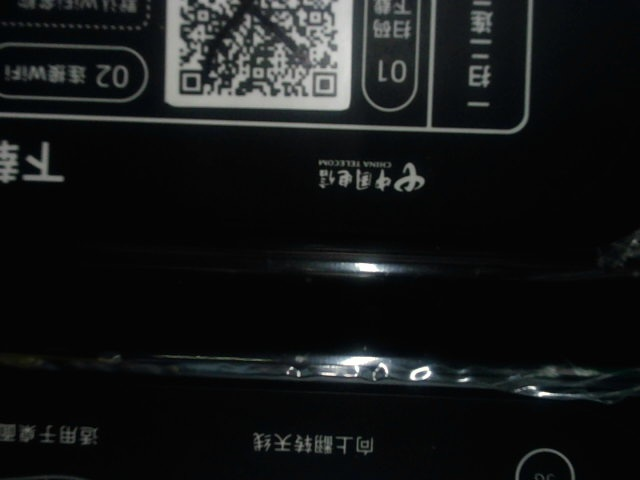AB_ChinaTelecom: (310, 151, 431, 195)
